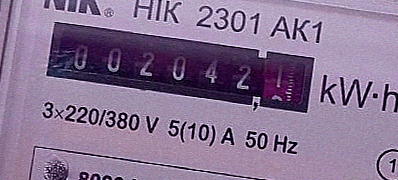0: (167, 52, 189, 85), (69, 41, 91, 73), (103, 44, 124, 77)
1: (269, 60, 287, 93)
2: (136, 49, 157, 80), (233, 62, 253, 93)
4: (200, 55, 222, 89)
screen: (40, 18, 320, 124)
